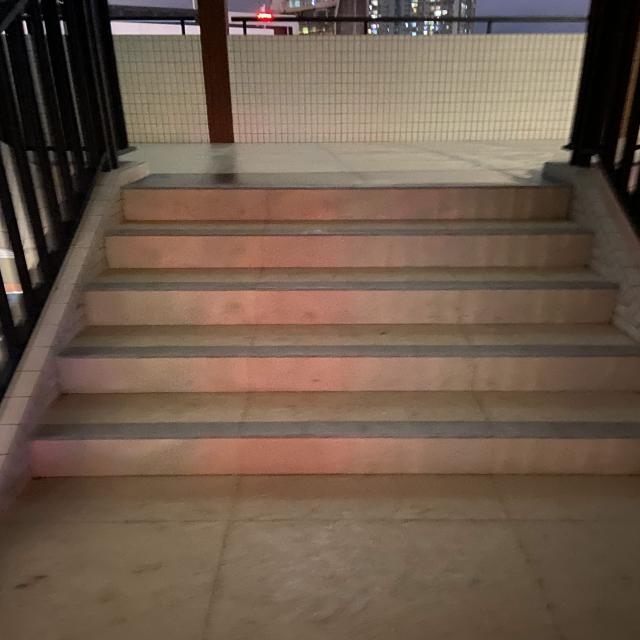Stairs: (30, 164, 640, 483)
